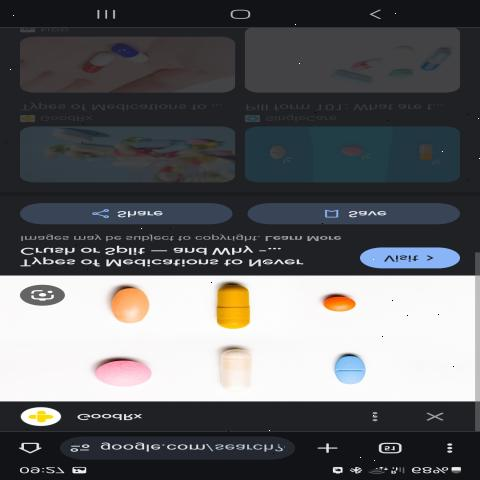Pill: (202, 335, 293, 396), (209, 274, 275, 329), (98, 280, 158, 330), (322, 353, 401, 389), (89, 358, 179, 388), (318, 289, 369, 313)
